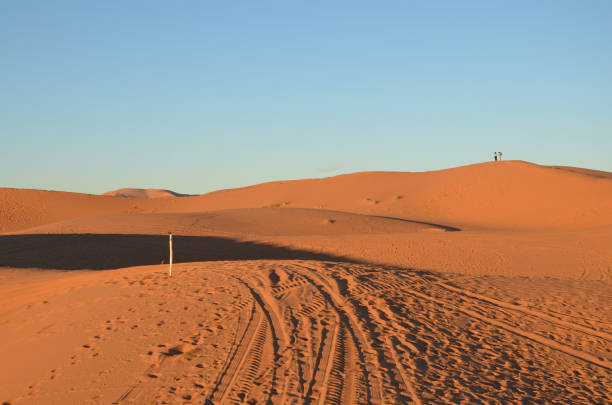human_foot_print: (7, 260, 610, 403), (11, 270, 240, 402)
vehicle_track: (396, 279, 611, 368), (402, 289, 611, 369), (113, 297, 254, 403), (292, 264, 383, 402), (328, 269, 419, 403), (436, 282, 611, 340), (220, 277, 288, 402), (206, 302, 266, 403), (227, 321, 268, 403), (318, 325, 350, 404)
